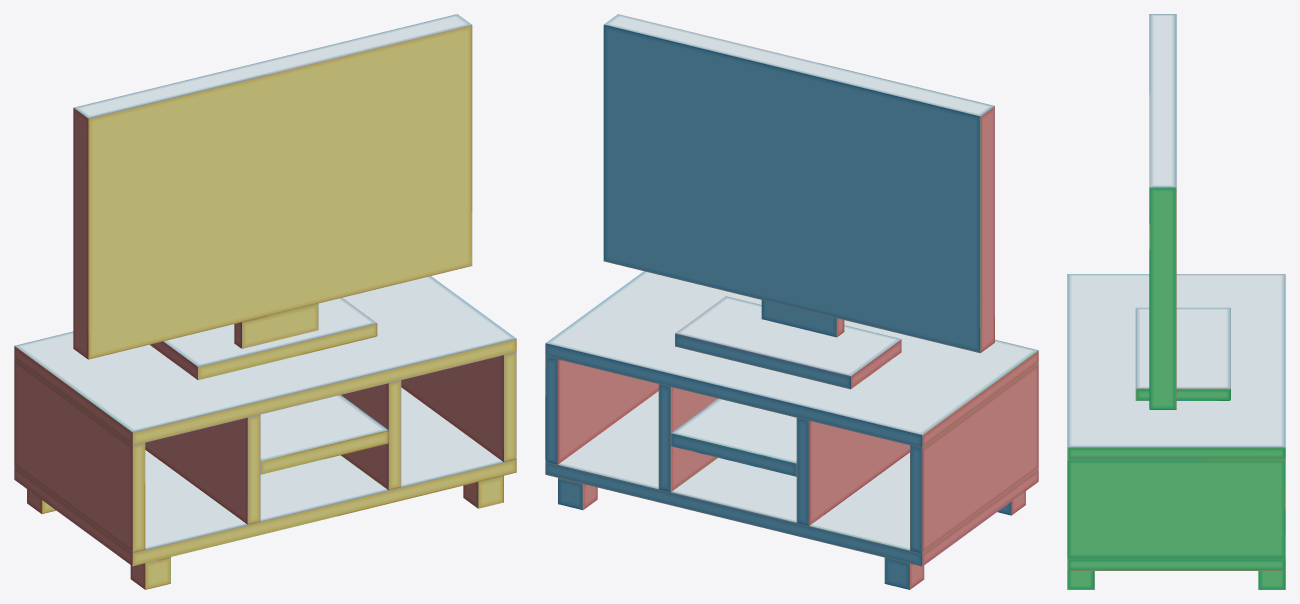
The picture shows the model from 3 angles, left to right: view 1: azimuth 30°, elevation 25°; view 2: azimuth 150°, elevation 25°; view 3: azimuth 270°, elevation 25°; orthographic projection. The views are drawn at different scales.
Visible parts, largest first — view 1: cube_13, cube_7, cube_4, cube_6, cube_8, cube_5, cube_11, cube_10, cube_9, cube_12, cube_1, cube_2; view 2: cube_13, cube_7, cube_4, cube_6, cube_11, cube_8, cube_5, cube_10, cube_9, cube_12, cube_3, cube; view 3: cube_7, cube_5, cube_13, cube_11, cube_4, cube, cube_1.
Boxes of the visible parts, x1,y1,x2,y2 form: cube_13: [73, 14, 472, 359]; cube_7: [14, 276, 516, 445]; cube_4: [14, 387, 516, 566]; cube_6: [14, 359, 145, 552]; cube_8: [145, 414, 260, 524]; cube_5: [401, 352, 516, 462]; cube_11: [150, 297, 377, 380]; cube_10: [260, 395, 388, 474]; cube_9: [341, 380, 401, 490]; cube_12: [234, 303, 318, 348]; cube_1: [463, 475, 503, 508]; cube_2: [130, 557, 170, 589]; cube_13: [603, 14, 994, 353]; cube_7: [545, 271, 1038, 448]; cube_4: [545, 391, 1038, 566]; cube_6: [910, 363, 1038, 553]; cube_11: [675, 296, 901, 389]; cube_8: [796, 418, 909, 525]; cube_5: [545, 356, 658, 464]; cube_10: [671, 398, 796, 476]; cube_9: [658, 384, 717, 491]; cube_12: [761, 300, 844, 337]; cube_3: [884, 557, 924, 589]; cube: [558, 478, 597, 509]; cube_7: [1067, 274, 1285, 459]; cube_5: [1067, 459, 1285, 558]; cube_13: [1149, 14, 1176, 409]; cube_11: [1135, 307, 1230, 400]; cube_4: [1067, 558, 1285, 570]; cube: [1258, 571, 1285, 589]; cube_1: [1067, 571, 1094, 589].
Bounding box in the file's own units: 188 × 206 × 100.
1 material, 1 textured.
